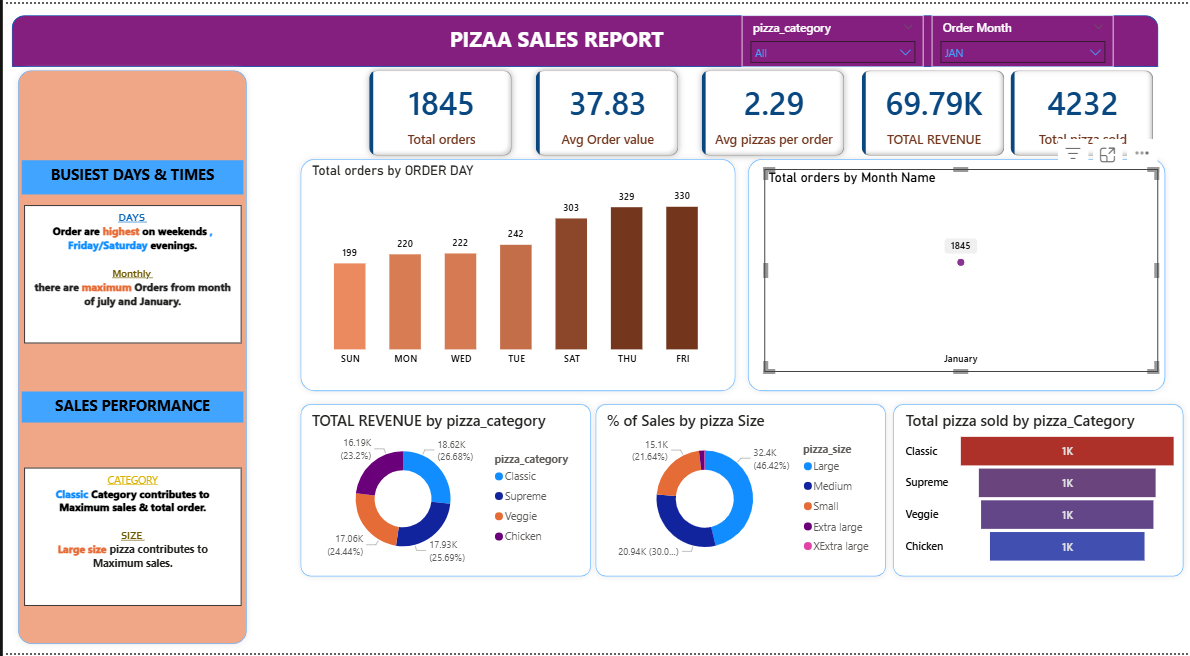

The dashboard page shown, as its layout file describes it:
{"tool":"powerbi","page":{"name":"HOME","canvas":[1500,820],"ordinal":0},"visuals":[{"type":"cardVisual","fields":{"Data":["pizza_sales.Total orders","pizza_sales.Avg Order value","pizza_sales.Avg pizzas per order"]},"box":[447.2,68.1,633.3,140.3],"z":0},{"type":"cardVisual","fields":{"Data":["pizza_sales.TOTAL REVENUE","pizza_sales.Total pizza sold"]},"box":[1080.6,79.2,379.2,118.1],"z":1000},{"type":"shape","box":[11.1,13.9,1448.6,65.3],"z":2000},{"type":"textbox","box":[544.4,20.8,316.7,54.2],"z":3000},{"type":"shape","box":[367.7,188,565.4,309.2],"z":4000},{"type":"clusteredColumnChart","fields":{"Category":["pizza_sales.ORDER DAY"],"Y":["pizza_sales.Total orders"]},"box":[385.8,200.5,527.8,266],"z":5000},{"type":"shape","box":[11.1,75.2,305,740.9],"z":6000},{"type":"shape","box":[933.1,188,543.1,309.2],"z":7000},{"type":"areaChart","fields":{"Category":["pizza_sales.Month Name"],"Y":["pizza_sales.Total orders"]},"box":[962.3,208.9,497.2,257.6],"z":8000},{"type":"shape","box":[367.7,497.2,383,234],"z":9000},{"type":"shape","box":[740.9,497.2,383,234],"z":10000},{"type":"shape","box":[1116.9,497.2,383,234],"z":11000},{"type":"textbox","box":[26.5,254.9,274.4,174.1],"z":12000},{"type":"donutChart","fields":{"Category":["pizza_sales.pizza_category"],"Y":["pizza_sales.TOTAL REVENUE"]},"box":[385.8,513.9,349.6,199.2],"z":13000},{"type":"donutChart","title":"% of Sales by pizza Size","fields":{"Y":["pizza_sales.TOTAL REVENUE"],"Category":["pizza_sales.pizza_size"]},"box":[757.6,513.9,349.6,199.2],"z":14000},{"type":"funnel","title":"Total pizza sold by pizza_Category","fields":{"Category":["pizza_sales.pizza_category"],"Y":["pizza_sales.Total pizza sold"]},"box":[1135,513.9,353.7,199.2],"z":15000},{"type":"textbox","box":[23.7,197.8,279.9,43.2],"z":16000},{"type":"textbox","box":[23.7,488.8,279.9,39],"z":17000},{"type":"textbox","box":[26.5,586.3,274.4,174.1],"z":18000},{"type":"slicer","fields":{"Values":["pizza_sales.pizza_category"]},"box":[933.1,13.9,229.8,65.5],"z":19000},{"type":"slicer","fields":{"Values":["pizza_sales.ORDER Month"]},"box":[1174,13.9,229.8,65.5],"z":20000}]}

Visuals, with their boxes in screenshot pixels (x1, y1, x2, y2), scaled from the page's 1500x820 canvas onto the 1190x656 screenshot:
cardVisual - pizza_sales.Total orders x pizza_sales.Avg Order value: 355,54,857,167
cardVisual - pizza_sales.TOTAL REVENUE x pizza_sales.Total pizza sold: 857,63,1158,158
shape: 9,11,1158,63
textbox: 432,17,683,60
shape: 292,150,740,398
clusteredColumnChart - pizza_sales.ORDER DAY x pizza_sales.Total orders: 306,160,725,373
shape: 9,60,251,653
shape: 740,150,1171,398
areaChart - pizza_sales.Month Name x pizza_sales.Total orders: 763,167,1158,373
shape: 292,398,596,585
shape: 588,398,892,585
shape: 886,398,1189,585
textbox: 21,204,239,343
donutChart - pizza_sales.pizza_category x pizza_sales.TOTAL REVENUE: 306,411,583,570
"% of Sales by pizza Size" donutChart: 601,411,878,570
"Total pizza sold by pizza_Category" funnel: 900,411,1181,570
textbox: 19,158,241,193
textbox: 19,391,241,422
textbox: 21,469,239,608
slicer - pizza_sales.pizza_category: 740,11,923,64
slicer - pizza_sales.ORDER Month: 931,11,1114,64
